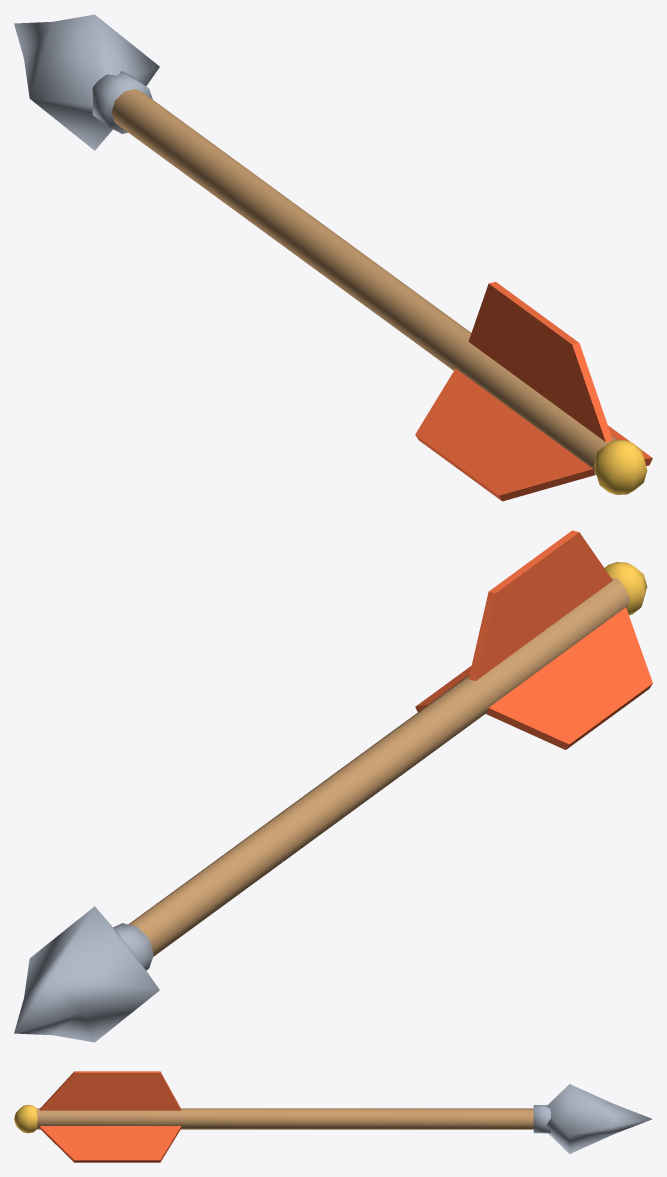
The model's file is AmbushArrow.obj.
The picture shows the model from 3 angles, top to bottom: view 1: azimuth 30°, elevation 25°; view 2: azimuth 150°, elevation 25°; view 3: azimuth 270°, elevation 25°; orthographic projection. The views are drawn at different scales.
Visible parts, largest first — view 1: Shaft, Fletching, Head, Nock; view 2: Shaft, Fletching, Head, Nock; view 3: Shaft, Fletching, Head, Nock.
Part boxes in pixels (left/top/right/bottom): Shaft: left=111, top=89, right=617, bottom=474; Fletching: left=415, top=281, right=652, bottom=501; Head: left=14, top=14, right=159, bottom=150; Nock: left=594, top=440, right=647, bottom=494; Shaft: left=128, top=578, right=629, bottom=956; Fletching: left=415, top=530, right=652, bottom=749; Head: left=14, top=906, right=159, bottom=1042; Nock: left=604, top=562, right=647, bottom=615; Shaft: left=36, top=1108, right=533, bottom=1129; Fletching: left=39, top=1071, right=181, bottom=1162; Head: left=533, top=1084, right=652, bottom=1153; Nock: left=14, top=1104, right=37, bottom=1133.
Size of the model in its own units: 0.6386 by 0.63 by 4.45.
